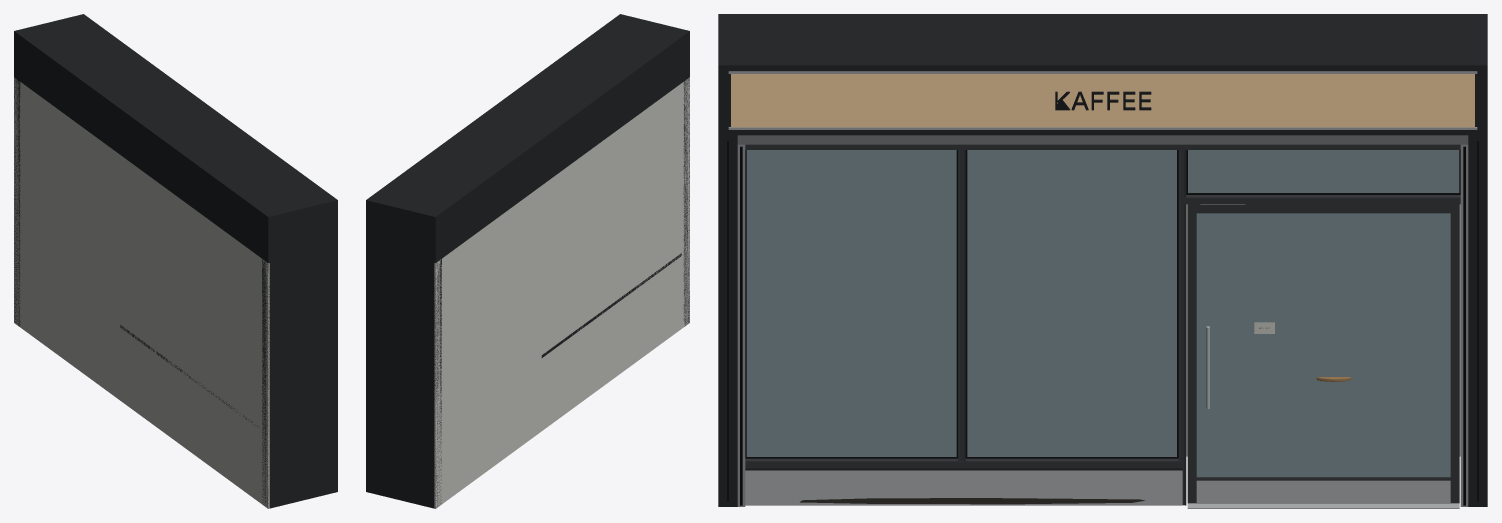
File: storefront_b.glb
The picture shows the model from 3 angles, left to right: view 1: azimuth 30°, elevation 25°; view 2: azimuth 150°, elevation 25°; view 3: azimuth 270°, elevation 25°; orthographic projection. The views are drawn at different scales.
Parts seen in each view (by area): view 1: laden_b_0, laden_b_1; view 2: laden_b_0, laden_b_1; view 3: laden_b_5, laden_b_1, laden_b_9, laden_b_4, laden_b_3, laden_b_8, laden_b_7, laden_b_10, laden_b_6, laden_b_2, laden_b_11, laden_b_0 (+1 smaller).
Part boxes in pixels (x1,y1,x2,y2): laden_b_0: (14, 77, 269, 508); laden_b_1: (14, 14, 337, 508); laden_b_0: (434, 77, 689, 508); laden_b_1: (366, 14, 689, 508); laden_b_5: (746, 150, 1459, 476); laden_b_1: (718, 14, 1487, 506); laden_b_9: (731, 74, 1474, 127); laden_b_4: (745, 144, 1460, 505); laden_b_3: (745, 326, 1459, 508); laden_b_8: (737, 135, 1468, 144); laden_b_7: (737, 144, 1468, 506); laden_b_10: (728, 71, 1477, 129); laden_b_6: (745, 150, 1460, 458); laden_b_2: (727, 141, 1478, 505); laden_b_11: (800, 498, 1144, 504); laden_b_0: (1186, 204, 1460, 456).
Bounding box in the file's own units: 0.98 × 3.8 × 6.
